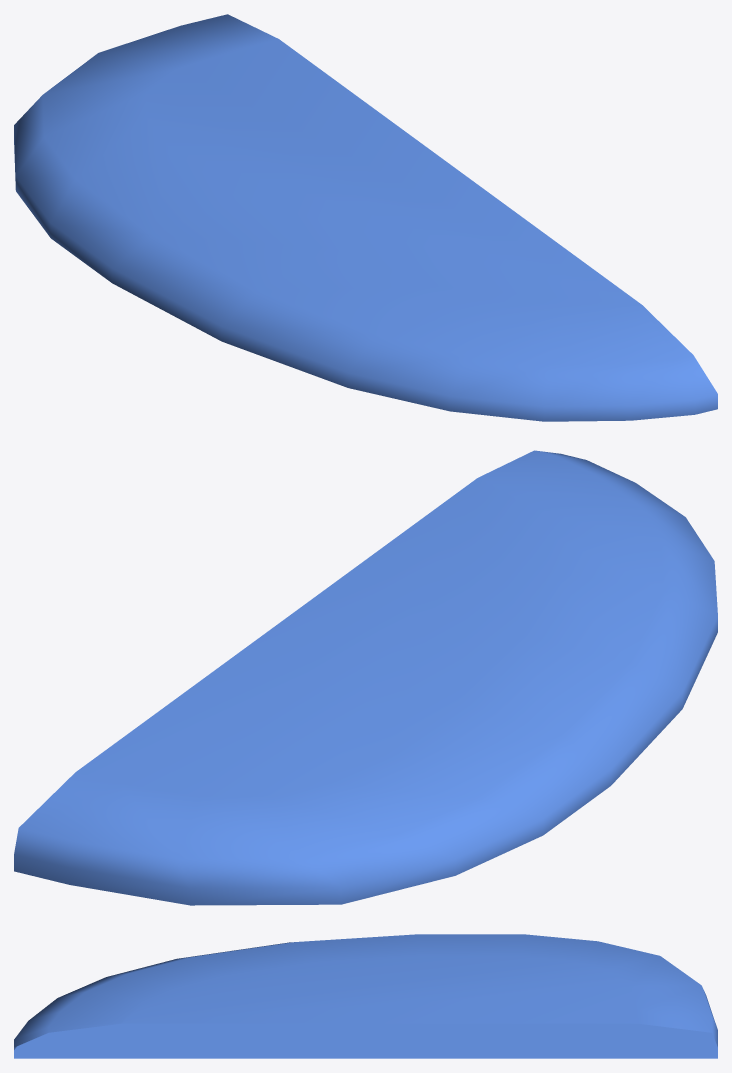
File: original-21.obj
The picture shows the model from 3 angles, top to bottom: view 1: azimuth 30°, elevation 25°; view 2: azimuth 150°, elevation 25°; view 3: azimuth 270°, elevation 25°; orthographic projection. The views are drawn at different scales.
Visible parts, largest first — view 1: Seat_Lid2/Seat_Lid12/mesh51/mesh51-geometry#mesh51-geometry; view 2: Seat_Lid2/Seat_Lid12/mesh51/mesh51-geometry#mesh51-geometry; view 3: Seat_Lid2/Seat_Lid12/mesh51/mesh51-geometry#mesh51-geometry.
Boxes of the visible parts, <box> form: Seat_Lid2/Seat_Lid12/mesh51/mesh51-geometry#mesh51-geometry: <box>14,14,717,421</box>; Seat_Lid2/Seat_Lid12/mesh51/mesh51-geometry#mesh51-geometry: <box>14,450,717,905</box>; Seat_Lid2/Seat_Lid12/mesh51/mesh51-geometry#mesh51-geometry: <box>14,934,717,1058</box>.
Bounding box in the file's own units: 0.3218 × 0.0462 × 0.8469.
